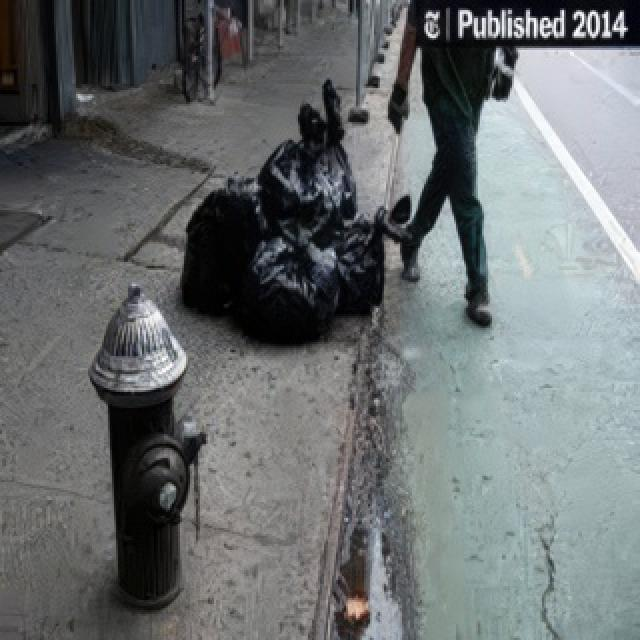high trash: (182, 81, 384, 342)
